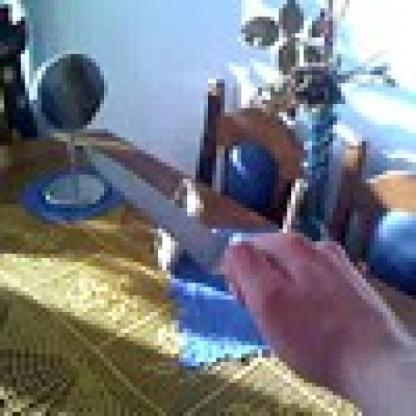Knife: (66, 141, 254, 300)
